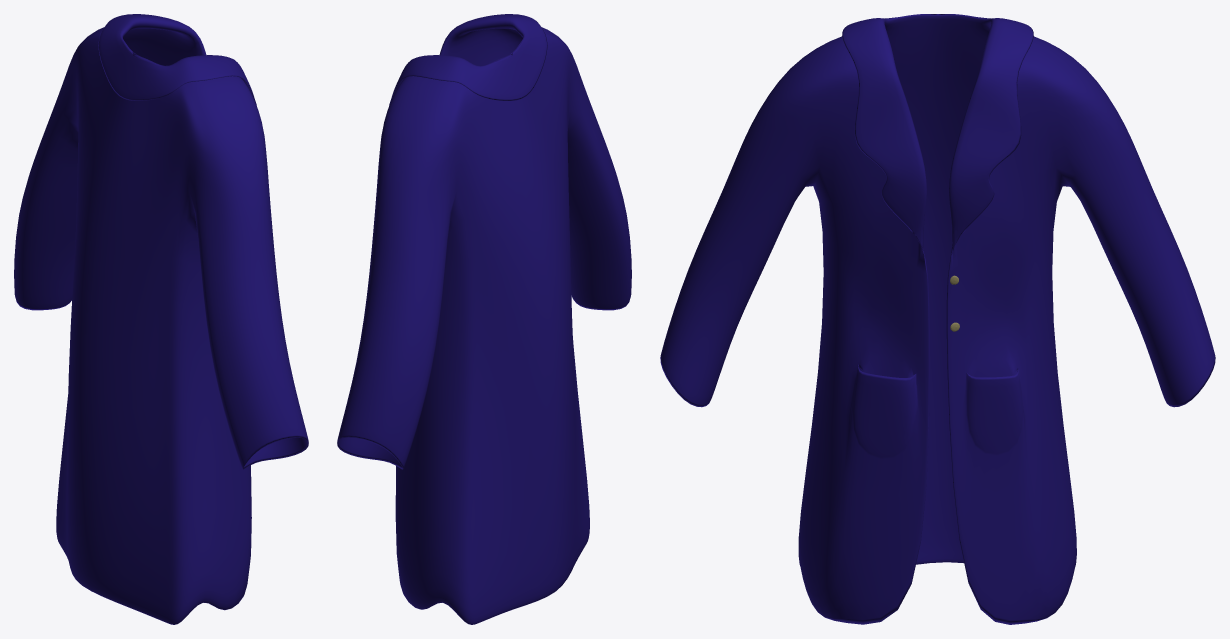
File: labcoat3.fbx
3 renders of one model, left to right at view 1: azimuth 30°, elevation 25°; view 2: azimuth 150°, elevation 25°; view 3: azimuth 270°, elevation 25°, orthographic. The views are drawn at different scales.
Visible parts, largest first — view 1: Plane; view 2: Plane; view 3: Plane.
Part boxes in pixels (box(x1,y1,x2,y2)): Plane: box(14, 14, 308, 624); Plane: box(337, 14, 631, 624); Plane: box(660, 14, 1215, 624).
Size of the model in its own units: 145 by 473 by 407.
